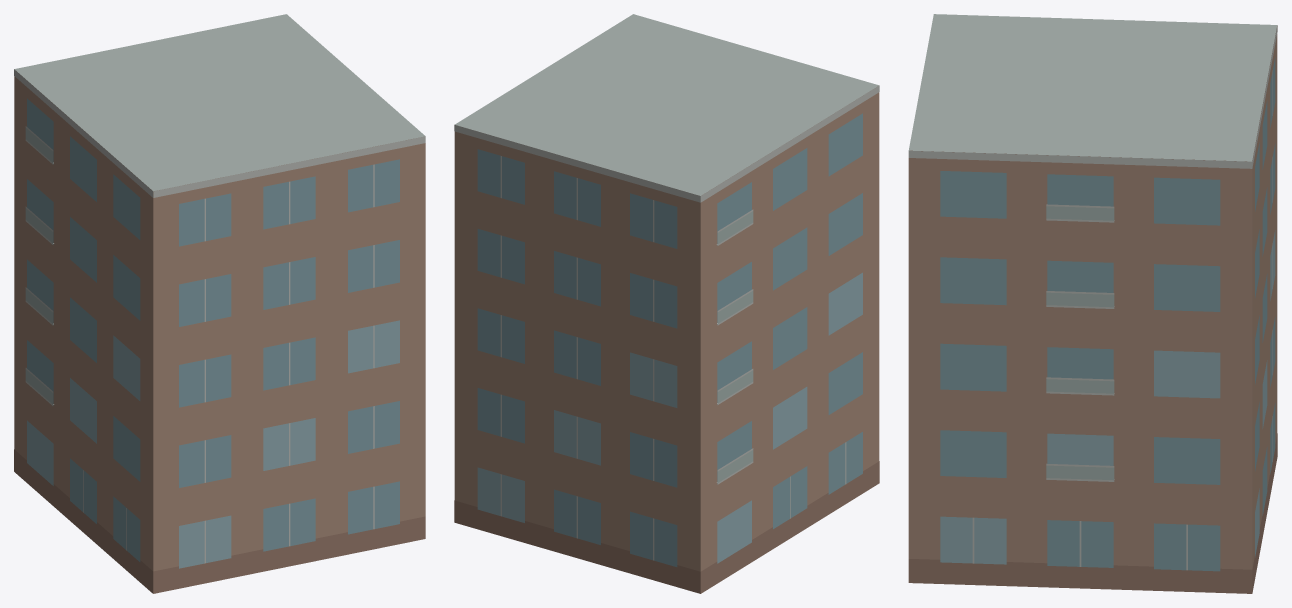
Rendered from survey-upis-32657649.glb.
3 views of the same model, side by side, from view 1: azimuth 30°, elevation 25°; view 2: azimuth 150°, elevation 25°; view 3: azimuth 270°, elevation 25° (orthographic). The views are drawn at different scales.
Parts seen in each view (by area): view 1: survey-upis-32657649.tmp; view 2: survey-upis-32657649.tmp; view 3: survey-upis-32657649.tmp.
Boxes of the visible parts, x1,y1,x2,y2 form: survey-upis-32657649.tmp: [14, 14, 425, 593]; survey-upis-32657649.tmp: [454, 14, 879, 593]; survey-upis-32657649.tmp: [908, 14, 1277, 593].
Bounding box in the file's own units: 10.63 × 14.5 × 11.22.
